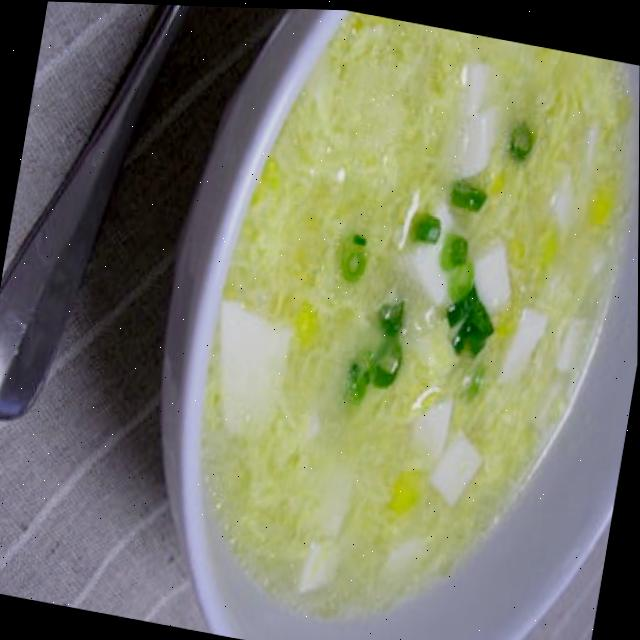汤锅炖物: (110, 3, 640, 640)
